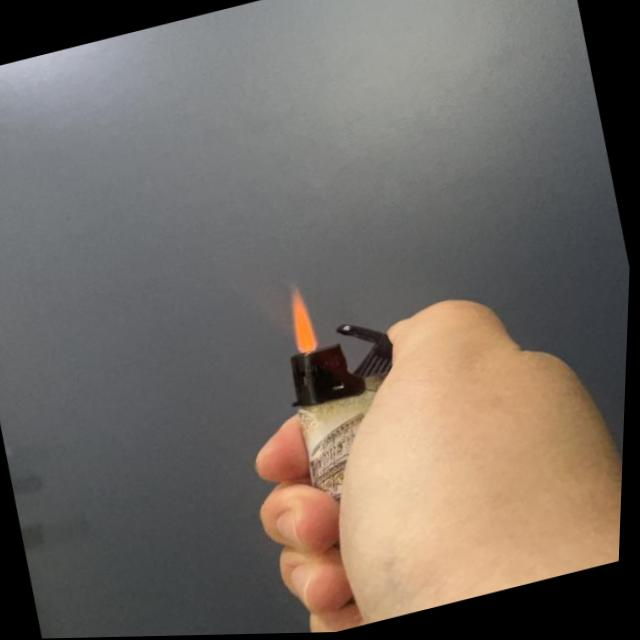Fire: (277, 277, 327, 360)
